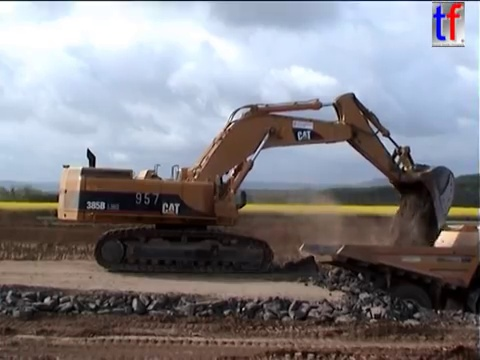excavator: (52, 89, 458, 277)
truck: (295, 221, 480, 337)
